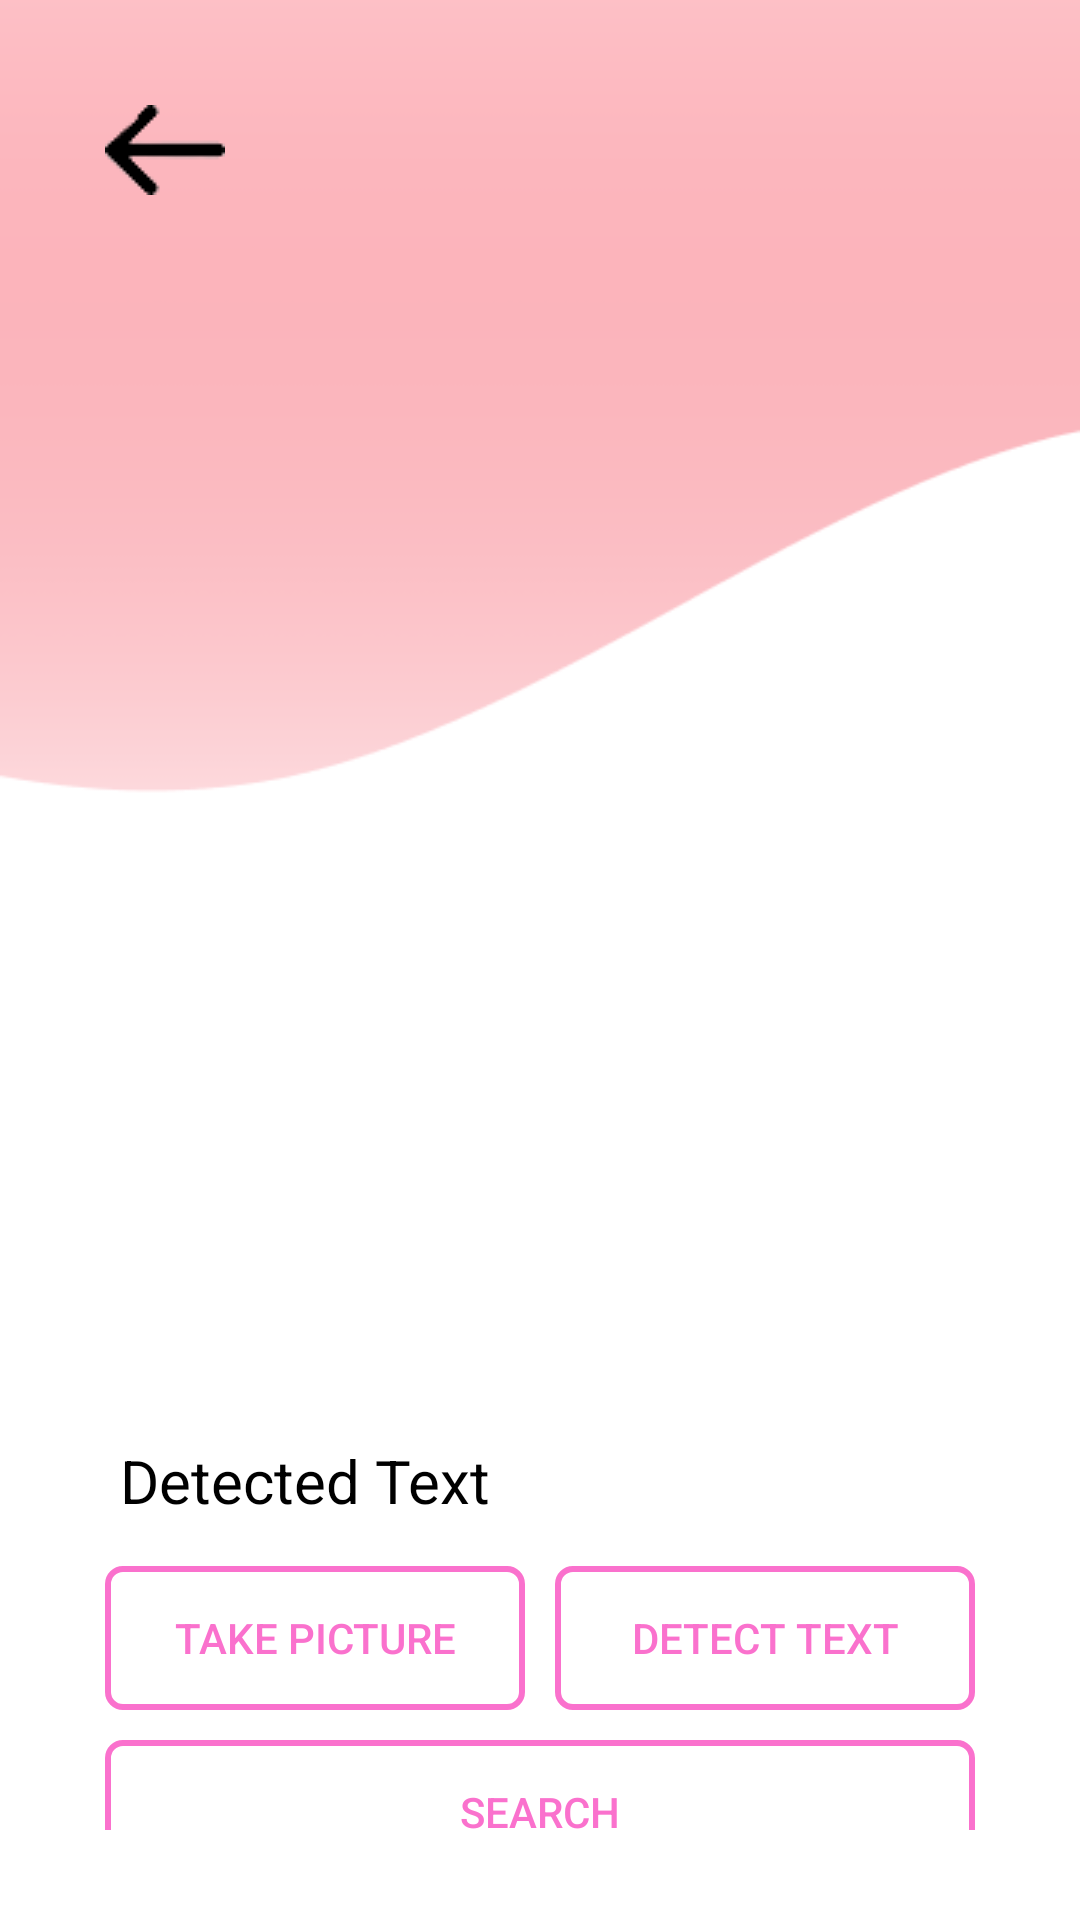

Icons on this 1080×1920 Android screen, each with its box as (x1=x1, y1=y1, x2=x2, y2=y2):
back: (x1=105, y1=105, x2=225, y2=195)
